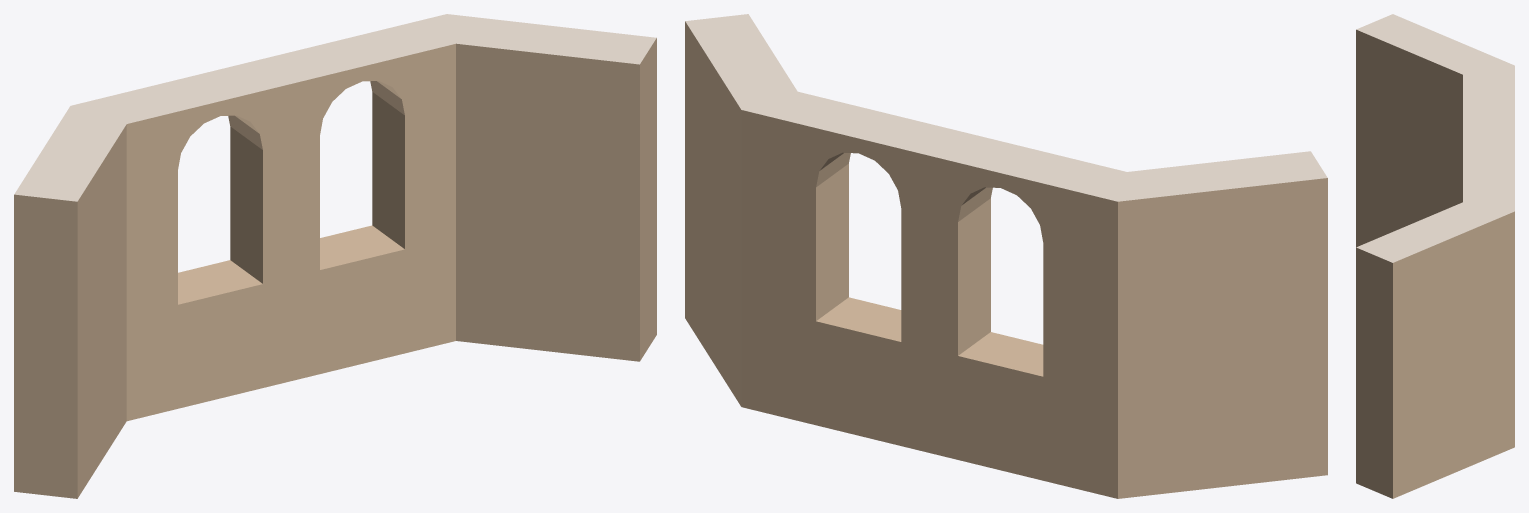
Rendered from Tower_Wall_Normal_Windows.obj.
The picture shows the model from 3 angles, left to right: view 1: azimuth 30°, elevation 25°; view 2: azimuth 150°, elevation 25°; view 3: azimuth 270°, elevation 25°; orthographic projection. The views are drawn at different scales.
Visible parts, largest first — view 1: object1; view 2: object1; view 3: object1.
Boxes of the visible parts, x1,y1,x2,y2 form: object1: (14,14,656,498); object1: (685,14,1327,498); object1: (1356,14,1514,498).
Size of the model in its own units: 2.26 by 1 by 0.6101.
